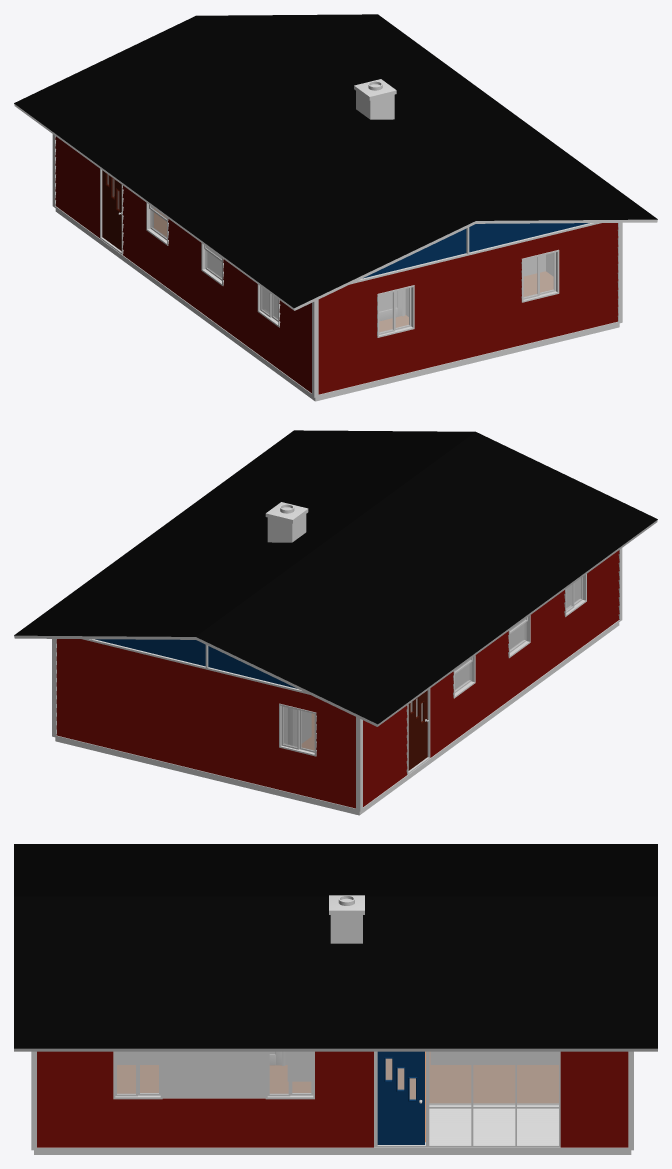
File: Merah.fbx
3 views of the same model, one above another, from view 1: azimuth 30°, elevation 25°; view 2: azimuth 150°, elevation 25°; view 3: azimuth 270°, elevation 25° (orthographic). The views are drawn at different scales.
Parts seen in each view (by area): view 1: fw-50-roof_Asphalt020_0.003, fw-50-siding_C_plywood_grey_0.003, fw-50-supportBeams_Wood058_0.003, fw-50-walls_Accent_Blue_0.003, fw-50-foundation_ConcreteSubstance004_0.003, fw-50-roof_Wood058_0.003, fw-50-doorFront_I.002_Accent_Blue_0.003, fw-50-windowDouble.002_Glass_0.003, fw-50-windowDouble.004_Glass_0.003, fw-50-walls_WoodFloor_0.003, fw-50-walls_Wood058_0.003, fw-50-chimney_Metal_White_0.003 (+3 smaller); view 2: fw-50-roof_Asphalt020_0.003, fw-50-siding_C_plywood_grey_0.003, fw-50-supportBeams_Wood058_0.003, fw-50-walls_Accent_Blue_0.003, fw-50-foundation_ConcreteSubstance004_0.003, fw-50-roof_Wood058_0.003, fw-50-doorFront_I.002_Accent_Blue_0.003, fw-50-windowDouble.006_Glass_0.003, fw-50-walls_Wood058_0.003, fw-50-chimney_Metal_White_0.003, fw-50-windowDouble.006_Wood058_0.003, fw-50-chimney_Metal_Aluminum_0.003; view 3: fw-50-roof_Asphalt020_0.003, fw-50-siding_C_plywood_grey_0.003, fw-50-walls_Wood058_0.003, fw-50-walls_WoodFloor_0.003, windowLarge-triple-designB.006_Glass_0.003, windowLarge-triple-designB.006_Wood058_0.003, fw-50-doorFront_I.001_Accent_Blue_0.003, fw-50-supportBeams_Wood058_0.003, fw-50-foundation_ConcreteSubstance004_0.003, fw-50-roof_Wood058_0.003, windowLarge-triple-designB.006_Wood_0.003, fw-50-windowDouble.003_Glass_0.003 (+6 smaller).
Boxes of the visible parts, x1=… form: fw-50-roof_Asphalt020_0.003: x1=14, y1=14, x2=657, y2=308; fw-50-siding_C_plywood_grey_0.003: x1=55, y1=136, x2=618, y2=394; fw-50-supportBeams_Wood058_0.003: x1=52, y1=134, x2=622, y2=397; fw-50-walls_Accent_Blue_0.003: x1=363, y1=223, x2=589, y2=278; fw-50-foundation_ConcreteSubstance004_0.003: x1=55, y1=209, x2=619, y2=401; fw-50-roof_Wood058_0.003: x1=14, y1=103, x2=657, y2=310; fw-50-doorFront_I.002_Accent_Blue_0.003: x1=102, y1=170, x2=121, y2=250; fw-50-windowDouble.002_Glass_0.003: x1=523, y1=253, x2=553, y2=297; fw-50-windowDouble.004_Glass_0.003: x1=379, y1=288, x2=409, y2=332; fw-50-walls_WoodFloor_0.003: x1=154, y1=208, x2=553, y2=331; fw-50-walls_Wood058_0.003: x1=209, y1=249, x2=553, y2=317; fw-50-chimney_Metal_White_0.003: x1=356, y1=91, x2=394, y2=119; fw-50-roof_Asphalt020_0.003: x1=14, y1=430, x2=657, y2=724; fw-50-siding_C_plywood_grey_0.003: x1=56, y1=550, x2=619, y2=808; fw-50-supportBeams_Wood058_0.003: x1=52, y1=548, x2=622, y2=811; fw-50-walls_Accent_Blue_0.003: x1=95, y1=639, x2=296, y2=688; fw-50-foundation_ConcreteSubstance004_0.003: x1=55, y1=622, x2=619, y2=815; fw-50-roof_Wood058_0.003: x1=14, y1=520, x2=657, y2=726; fw-50-doorFront_I.002_Accent_Blue_0.003: x1=408, y1=690, x2=427, y2=770; fw-50-windowDouble.006_Glass_0.003: x1=283, y1=707, x2=314, y2=750; fw-50-walls_Wood058_0.003: x1=294, y1=580, x2=578, y2=746; fw-50-chimney_Metal_White_0.003: x1=267, y1=514, x2=306, y2=542; fw-50-windowDouble.006_Wood058_0.003: x1=279, y1=703, x2=316, y2=756; fw-50-chimney_Metal_Aluminum_0.003: x1=265, y1=502, x2=308, y2=523; fw-50-roof_Asphalt020_0.003: x1=14, y1=844, x2=657, y2=1048; fw-50-siding_C_plywood_grey_0.003: x1=37, y1=1051, x2=628, y2=1147; fw-50-walls_Wood058_0.003: x1=117, y1=1051, x2=558, y2=1098; fw-50-walls_WoodFloor_0.003: x1=117, y1=1051, x2=558, y2=1142; windowLarge-triple-designB.006_Glass_0.003: x1=429, y1=1051, x2=558, y2=1104; windowLarge-triple-designB.006_Wood058_0.003: x1=376, y1=1051, x2=558, y2=1147; fw-50-doorFront_I.001_Accent_Blue_0.003: x1=377, y1=1051, x2=424, y2=1144; fw-50-supportBeams_Wood058_0.003: x1=31, y1=1051, x2=633, y2=1150; fw-50-foundation_ConcreteSubstance004_0.003: x1=34, y1=1150, x2=631, y2=1154; fw-50-roof_Wood058_0.003: x1=14, y1=1048, x2=657, y2=1051; windowLarge-triple-designB.006_Wood_0.003: x1=374, y1=1051, x2=560, y2=1147; fw-50-windowDouble.003_Glass_0.003: x1=269, y1=1051, x2=311, y2=1093.
Size of the model in its own units: 919 by 410 by 1224.
